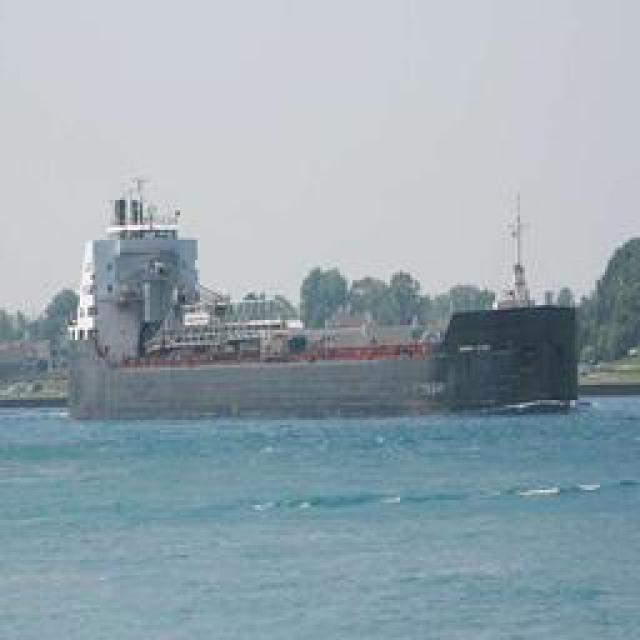Ship: (58, 185, 563, 415)
